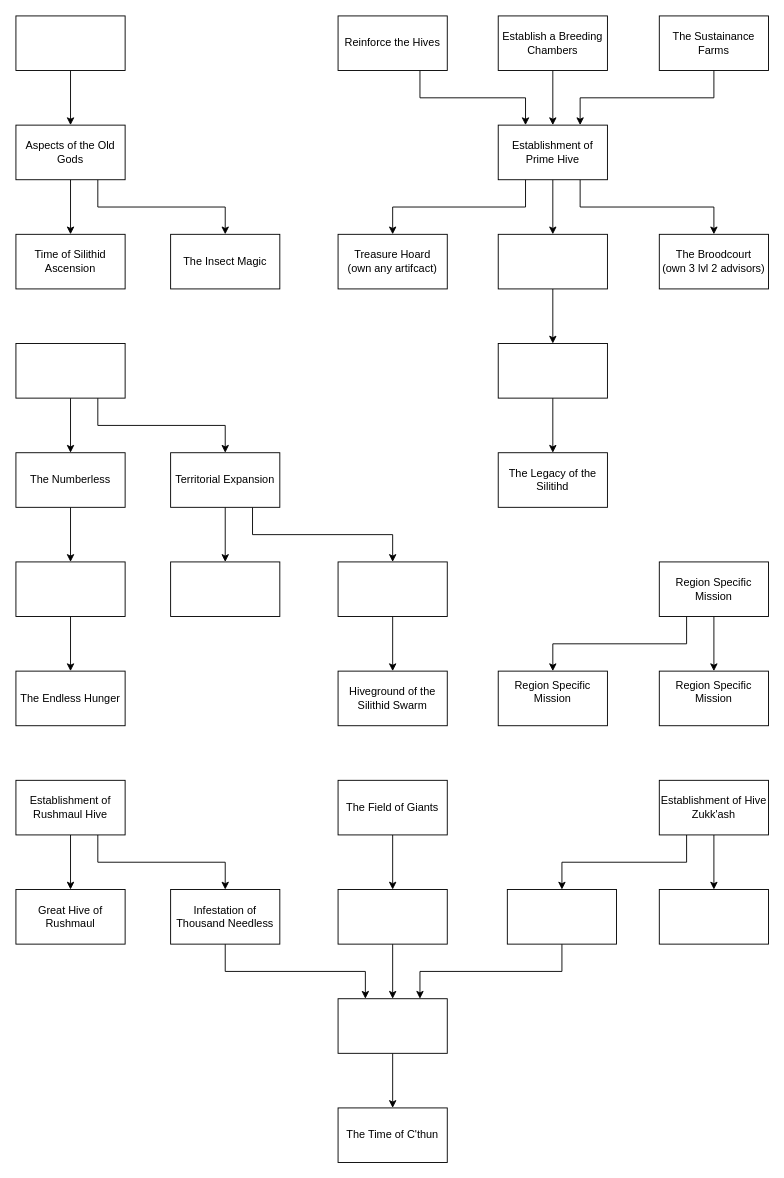
Image size: 784x1178. Some labels were removed from this diagram. Here are the shapes that lost their labels. From the top down, the centre of each, then its label:
the point at 70,43: Appease the Master
the point at 552,261: Expand Territorial Reach
the point at 70,370: Rise of the Swarm
the point at 552,370: The Silithid Realm
the point at 70,589: The Scourge of the Dunes
the point at 225,589: Rivals to Kingdoms
the point at 392,589: Home Region United
the point at 392,916: Infestation of Barrens
the point at 561,916: Infestation of Feralas
the point at 713,916: Great Hive of Zukk'ash
the point at 392,1025: Empire of the Shifting Sands
